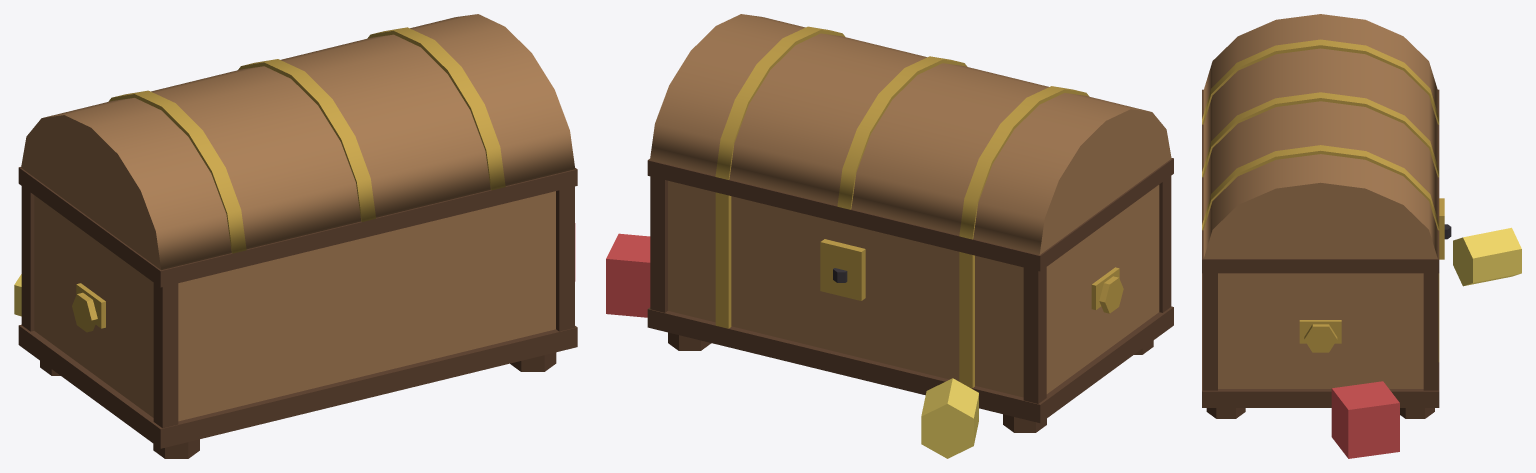
File: baul_juguetes.glb
3 views of the same model, side by side, from view 1: azimuth 30°, elevation 25°; view 2: azimuth 150°, elevation 25°; view 3: azimuth 270°, elevation 25° (orthographic). The views are drawn at different scales.
Parts seen in each view (by area): view 1: baul_juguetes; view 2: baul_juguetes; view 3: baul_juguetes.
Boxes of the visible parts, <box> form: baul_juguetes: <box>14,14,577,458</box>; baul_juguetes: <box>606,14,1173,458</box>; baul_juguetes: <box>1202,14,1521,458</box>.
Bounding box in the file's own units: 1.64 × 0.897 × 1.06.
